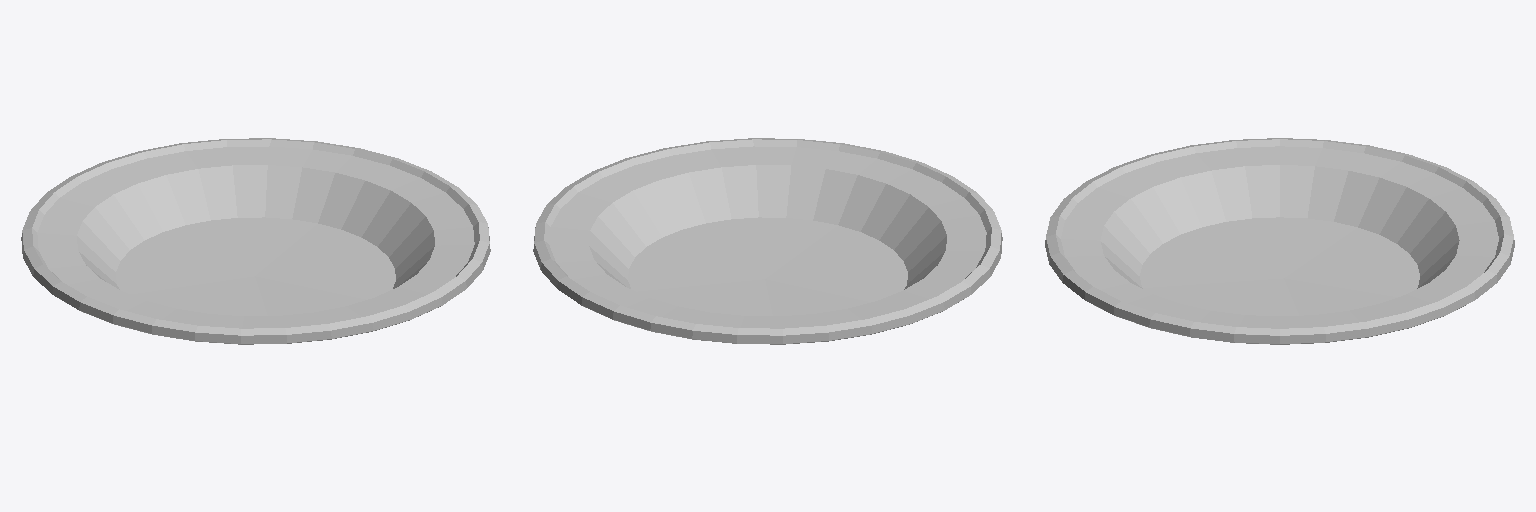
The model's file is Plate.dae (1).obj.
3 views of the same model, side by side, from view 1: azimuth 30°, elevation 25°; view 2: azimuth 150°, elevation 25°; view 3: azimuth 270°, elevation 25° (orthographic).
Visible parts, largest first — view 1: g plateALores001; view 2: g plateALores001; view 3: g plateALores001.
Boxes of the visible parts, <box> form: g plateALores001: <box>21,138,490,344</box>; g plateALores001: <box>533,138,1002,344</box>; g plateALores001: <box>1045,138,1514,344</box>.
Size of the model in its own units: 2 by 0.2062 by 2.